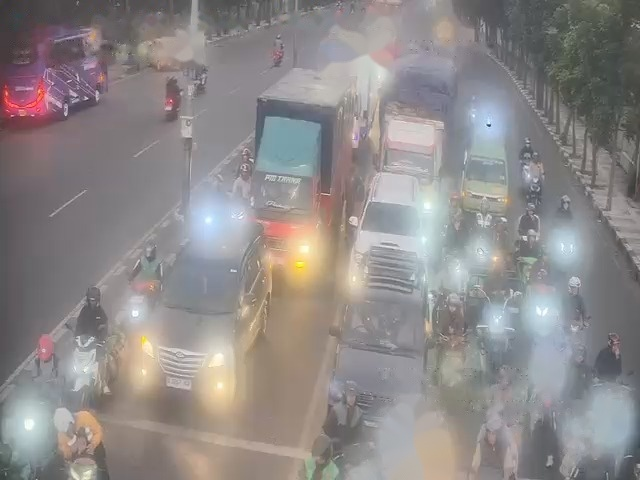Bis: (0, 17, 115, 124)
Mobil: (150, 227, 273, 404), (331, 279, 421, 440), (466, 125, 509, 211)
Motor: (477, 425, 520, 478), (437, 335, 467, 400), (15, 392, 46, 452), (483, 306, 511, 370), (331, 442, 380, 478), (70, 332, 90, 393), (600, 383, 622, 428), (552, 227, 573, 271), (561, 322, 581, 364), (529, 302, 550, 340), (62, 457, 95, 480), (468, 265, 484, 308), (441, 253, 463, 284), (469, 234, 486, 262), (520, 255, 534, 284), (130, 298, 145, 324), (488, 251, 500, 275), (230, 202, 242, 225), (521, 164, 531, 188), (532, 176, 540, 204), (272, 48, 284, 65), (520, 232, 529, 251)
Truk: (250, 67, 362, 267), (380, 35, 457, 183), (345, 168, 424, 284)
